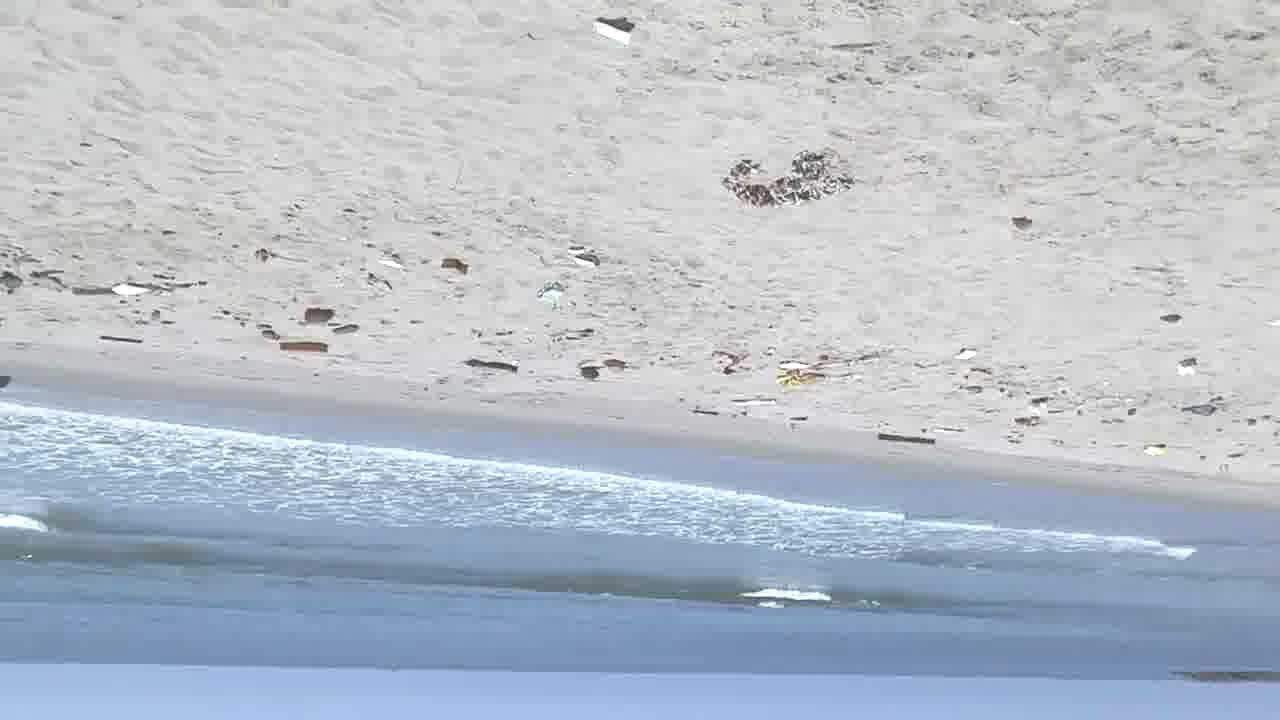large collection of objects: (251, 318, 284, 344), (331, 322, 361, 336)
obj: (710, 138, 860, 219), (772, 356, 828, 388), (148, 270, 208, 298), (591, 14, 637, 46), (465, 358, 521, 377), (536, 280, 569, 312), (872, 430, 936, 446), (67, 285, 116, 302), (112, 278, 154, 297), (568, 249, 602, 269), (303, 304, 336, 324), (1006, 214, 1038, 234), (1173, 359, 1200, 377), (442, 259, 466, 279), (950, 345, 978, 362), (379, 252, 408, 268), (284, 341, 329, 350), (1160, 314, 1183, 329), (1144, 444, 1166, 456)
sand/background: (1, 358, 1279, 720)
